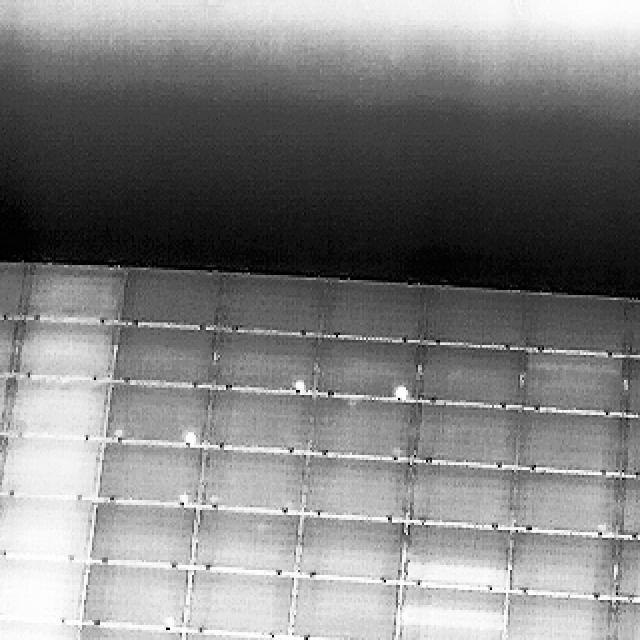Hotspots: (401, 557, 509, 590), (396, 605, 505, 634), (389, 381, 410, 402), (389, 443, 406, 459), (291, 379, 311, 392), (164, 613, 176, 633), (184, 429, 198, 445), (111, 426, 127, 439), (178, 493, 192, 507), (595, 520, 609, 532)
PV-modules: (300, 516, 410, 584), (83, 561, 193, 629), (508, 534, 619, 601), (512, 471, 626, 536), (187, 569, 298, 635), (220, 272, 334, 336), (303, 458, 417, 522), (207, 392, 319, 456), (292, 575, 402, 640), (106, 383, 214, 449), (200, 449, 308, 515), (193, 512, 304, 576), (310, 398, 424, 460), (409, 463, 516, 529), (92, 502, 198, 567), (98, 445, 208, 507), (416, 345, 526, 407), (321, 280, 431, 342), (111, 328, 217, 392), (415, 405, 521, 469), (518, 412, 629, 473), (214, 332, 324, 393), (316, 338, 423, 400), (524, 349, 629, 412), (6, 438, 106, 503), (17, 321, 123, 382), (426, 290, 531, 350), (11, 380, 112, 442), (3, 500, 96, 565), (396, 587, 508, 640), (0, 556, 86, 625), (25, 266, 126, 324), (403, 525, 511, 579), (124, 270, 224, 328), (532, 299, 628, 359), (502, 595, 614, 640), (76, 622, 188, 640), (0, 263, 30, 321), (614, 538, 640, 602), (0, 620, 76, 640), (618, 478, 640, 540), (0, 321, 20, 381), (622, 418, 640, 482), (610, 602, 640, 640), (622, 358, 640, 420), (622, 302, 640, 362), (176, 632, 286, 640), (0, 374, 13, 437)
